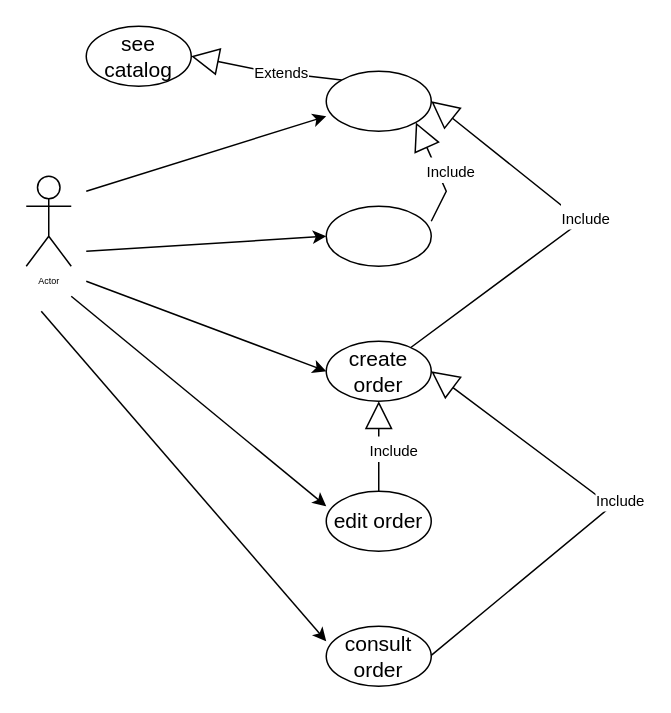
Some shapes in this 671 by 713 pixel diagram are drawn without their labels. Each missing label, with the centre of its shape:
"edit user" belongs at (378,235).
"log in" belongs at (378,100).
